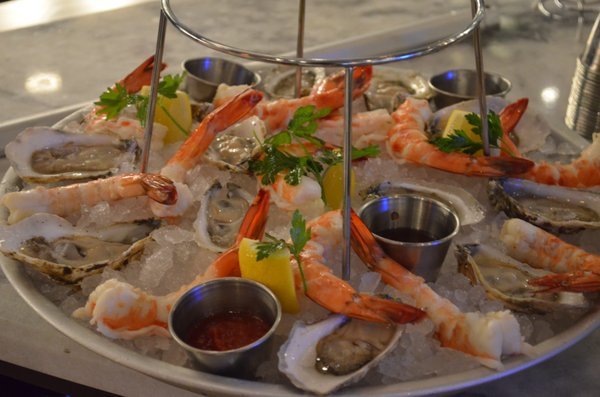sushi: (168, 277, 281, 376), (358, 188, 460, 284)
